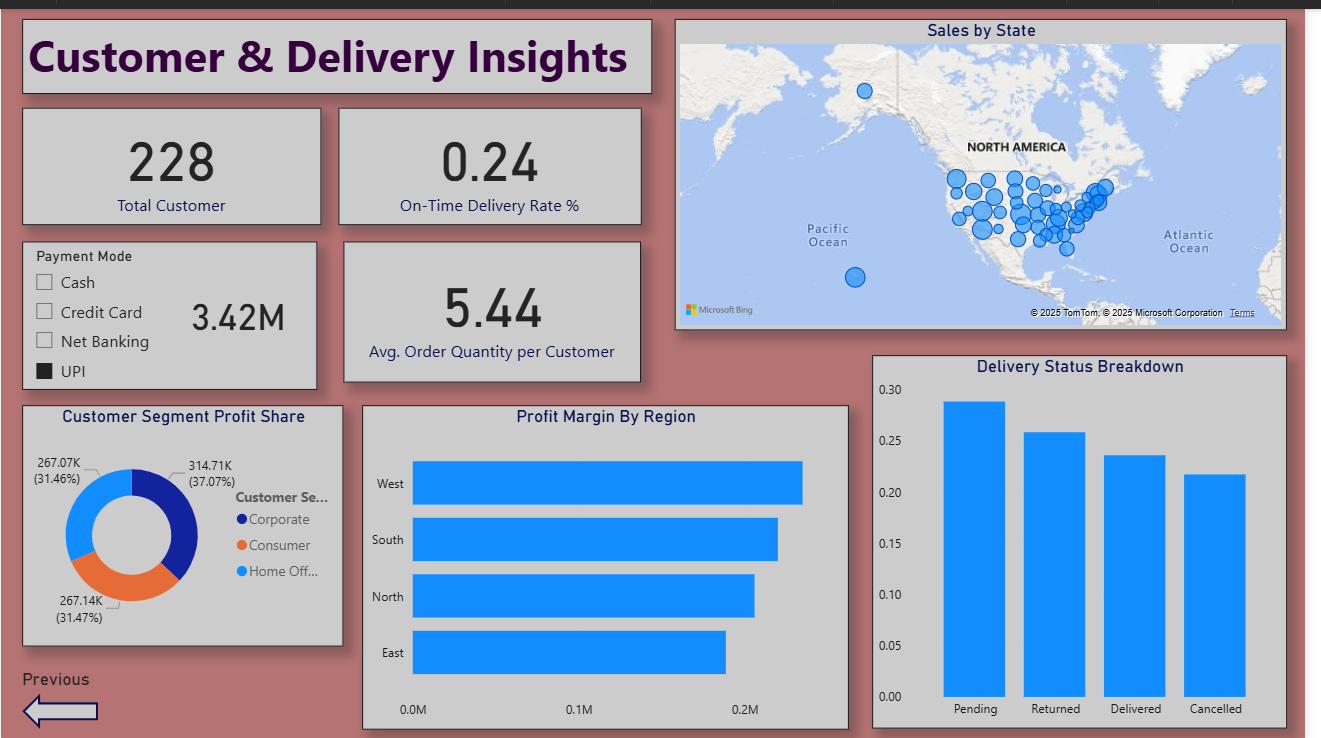

This screenshot's page, from the dashboard's own definition file:
{"tool":"powerbi","page":{"name":" Customer & Delivery Insights","canvas":[1280,720],"ordinal":2},"visuals":[{"type":"slicer","fields":{"Values":["Superstore_Management_System.Payment Mode"]},"box":[20.8,228.4,289.3,145.3],"z":0},{"type":"textbox","box":[20.8,9.7,618.7,73.4],"z":1000},{"type":"card","fields":{"Values":["Superstore_Management_System.total cut"]},"box":[20.8,96.9,293.4,114.9],"z":2000},{"type":"map","title":"Sales by State","fields":{"Category":["Superstore_Management_System.State"],"Size":["Sum(Superstore_Management_System.Sales Amount)"]},"box":[661.6,9.7,600.7,305.9],"z":3000},{"type":"clusteredBarChart","title":"Profit Margin By Region ","fields":{"Category":["Superstore_Management_System.Region"],"Y":["Sum(Superstore_Management_System.Profit)"]},"box":[354.3,388.9,477.5,318.3],"z":4000},{"type":"columnChart","title":"Delivery Status Breakdown","fields":{"Category":["Superstore_Management_System.Delivery Status"],"Y":["Superstore_Management_System.% Orders by_Status"]},"box":[855.4,340.5,406.9,366.8],"z":5000},{"type":"card","fields":{"Values":["Superstore_Management_System.Avg. Order Quantity per Customer"]},"box":[336.3,228.4,292,138.4],"z":6000},{"type":"donutChart","title":"Customer Segment Profit Share","fields":{"Category":["Superstore_Management_System.Customer Segment"],"Y":["Sum(Superstore_Management_System.Profit)"]},"box":[20.8,388.9,315.6,236.7],"z":7000},{"type":"card","fields":{"Values":["Superstore_Management_System.On-Time Delivery Rate %"]},"box":[330.8,96.9,297.6,114.9],"z":9000},{"type":"shape","title":"Previous","box":[20.6,648.4,74.3,59.2],"z":10000},{"type":"kpi","fields":{"TrendLine":["Superstore_Management_System.Payment Mode"],"Indicator":["Sum(Superstore_Management_System.Sales Amount)"]},"box":[160.6,236.7,143.9,130.1],"z":10500}]}

Visuals, with their boxes in screenshot pixels (x1, y1, x2, y2), scaled from the page's 1280x720 canvas onto the 1321x738 screenshot:
slicer - Superstore_Management_System.Payment Mode: Rect(21, 234, 320, 383)
textbox: Rect(21, 10, 660, 85)
card - Superstore_Management_System.total cut: Rect(21, 99, 324, 217)
"Sales by State" map: Rect(683, 10, 1303, 323)
"Profit Margin By Region " clusteredBarChart: Rect(366, 399, 858, 725)
"Delivery Status Breakdown" columnChart: Rect(883, 349, 1303, 725)
card - Superstore_Management_System.Avg. Order Quantity per Customer: Rect(347, 234, 648, 376)
"Customer Segment Profit Share" donutChart: Rect(21, 399, 347, 641)
card - Superstore_Management_System.On-Time Delivery Rate %: Rect(341, 99, 649, 217)
"Previous" shape: Rect(21, 665, 98, 725)
kpi - Superstore_Management_System.Payment Mode x Sum(Superstore_Management_System.Sales Amount): Rect(166, 243, 314, 376)
